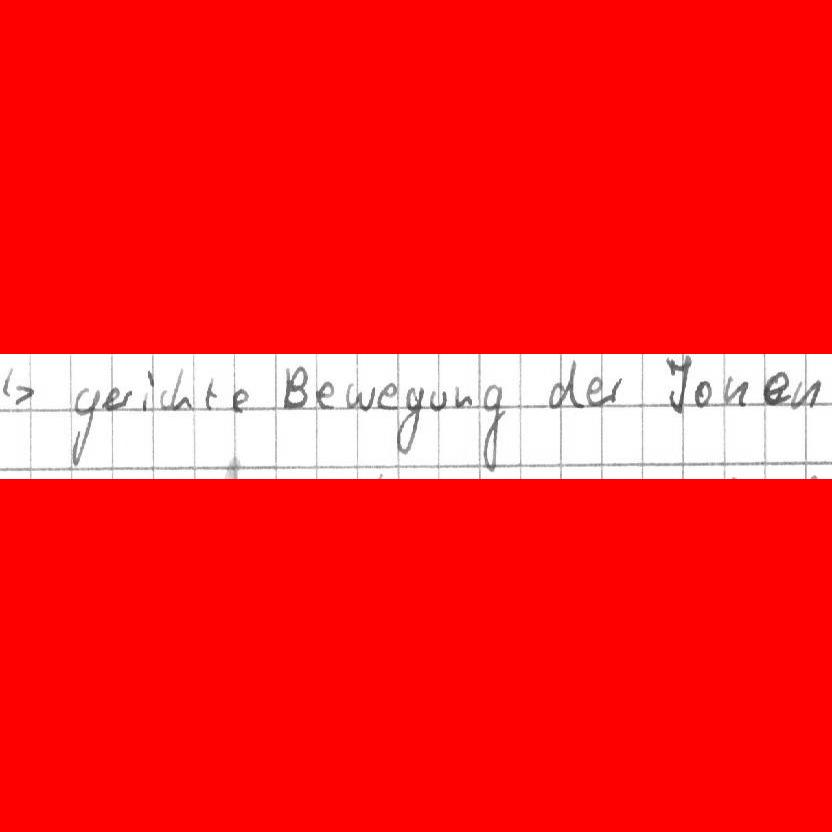Char: (66, 381, 99, 467), (393, 381, 422, 454), (480, 382, 503, 473), (546, 359, 581, 412), (663, 355, 691, 416), (281, 362, 308, 411), (6, 369, 33, 409), (168, 367, 192, 411), (791, 377, 823, 408), (763, 371, 789, 407), (723, 374, 750, 407), (347, 382, 375, 412), (374, 380, 401, 411), (315, 378, 336, 409), (452, 384, 476, 410), (604, 375, 624, 406), (140, 370, 154, 412), (693, 379, 714, 407), (99, 385, 121, 411), (585, 376, 603, 406), (231, 387, 250, 415), (204, 376, 220, 409), (428, 390, 445, 411), (120, 387, 135, 408), (159, 388, 168, 411)
